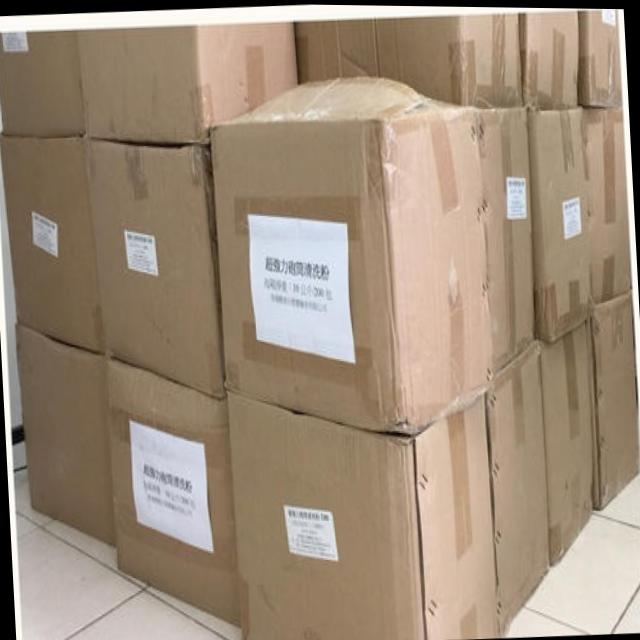box: (210, 72, 496, 437), (229, 392, 500, 640), (86, 141, 229, 402), (106, 355, 241, 627), (79, 21, 297, 147), (0, 135, 105, 355), (16, 319, 114, 547), (295, 12, 525, 106), (485, 335, 550, 637), (471, 106, 537, 370), (528, 104, 596, 344), (537, 316, 597, 566), (591, 289, 640, 514), (580, 106, 632, 301), (0, 30, 86, 139), (520, 8, 579, 111), (579, 8, 621, 108)
